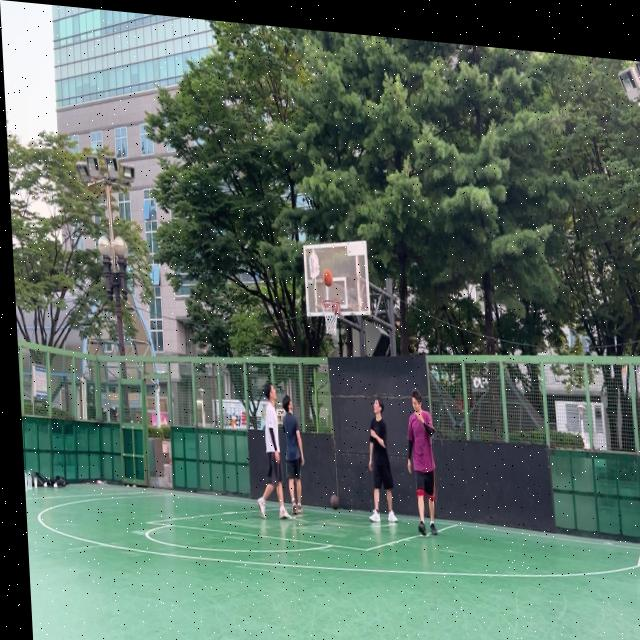basketball: (323, 268, 334, 287), (330, 494, 340, 511)
hoop: (320, 299, 341, 336)
